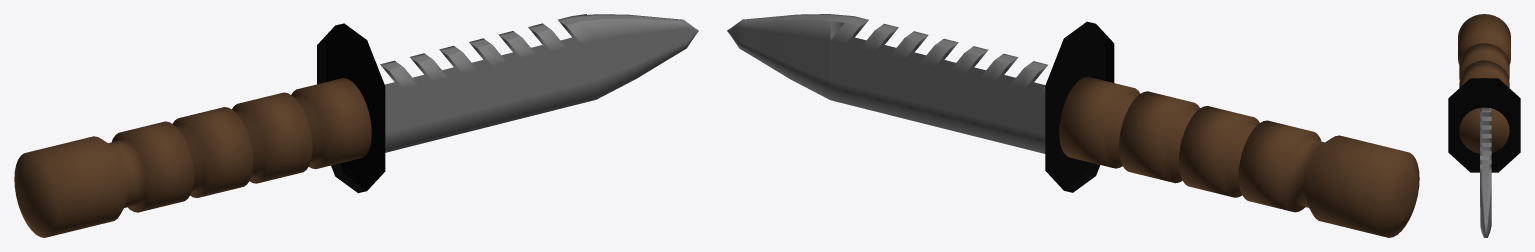
File: Combat knife asset.fbx
The picture shows the model from 3 angles, left to right: view 1: azimuth 30°, elevation 25°; view 2: azimuth 150°, elevation 25°; view 3: azimuth 270°, elevation 25°; orthographic projection. The views are drawn at different scales.
Parts seen in each view (by area): view 1: blade; view 2: blade; view 3: blade.
Part boxes in pixels (left/top/right/bottom): blade: left=14, top=14, right=698, bottom=237; blade: left=727, top=14, right=1419, bottom=237; blade: left=1448, top=14, right=1520, bottom=237.
Bounding box in the file's own units: 261 × 55.93 × 39.89.
